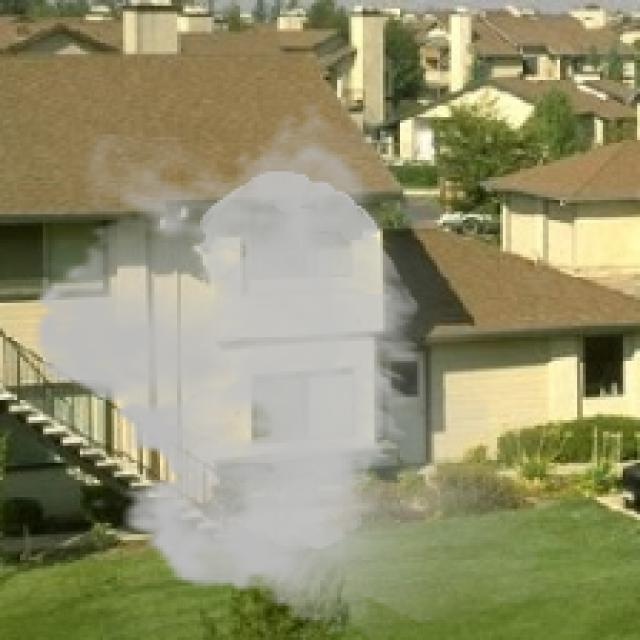smoke: (11, 100, 580, 634)
